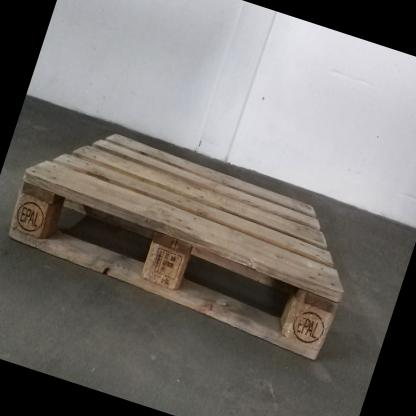BoxFace: (4, 128, 348, 369)
